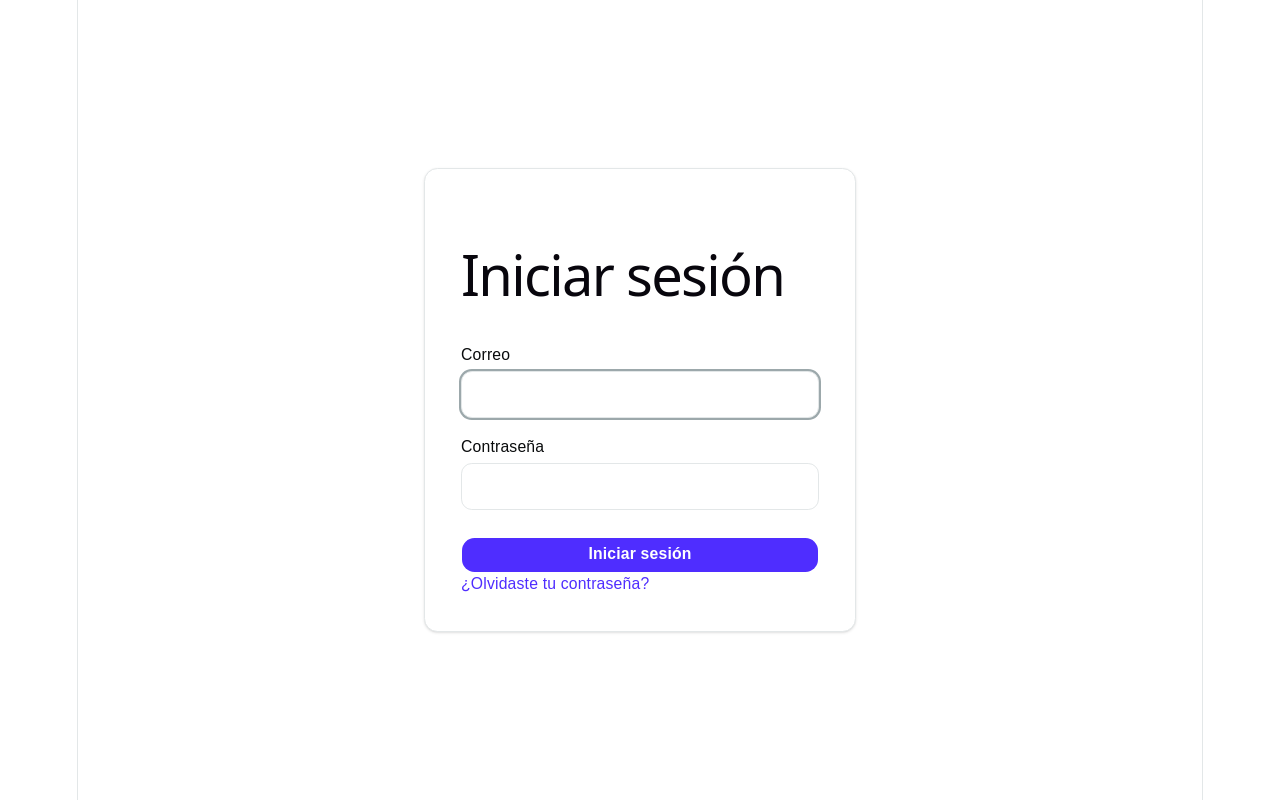
Test case: LoginPage — 401 anti-enumeración › muestra un único mensaje genérico y no revela el motivo
The width and height of the screenshot is (1280, 800).
In the field labelled "Correo": (640,394) [461, 371, 819, 418], type "ana@example.com"
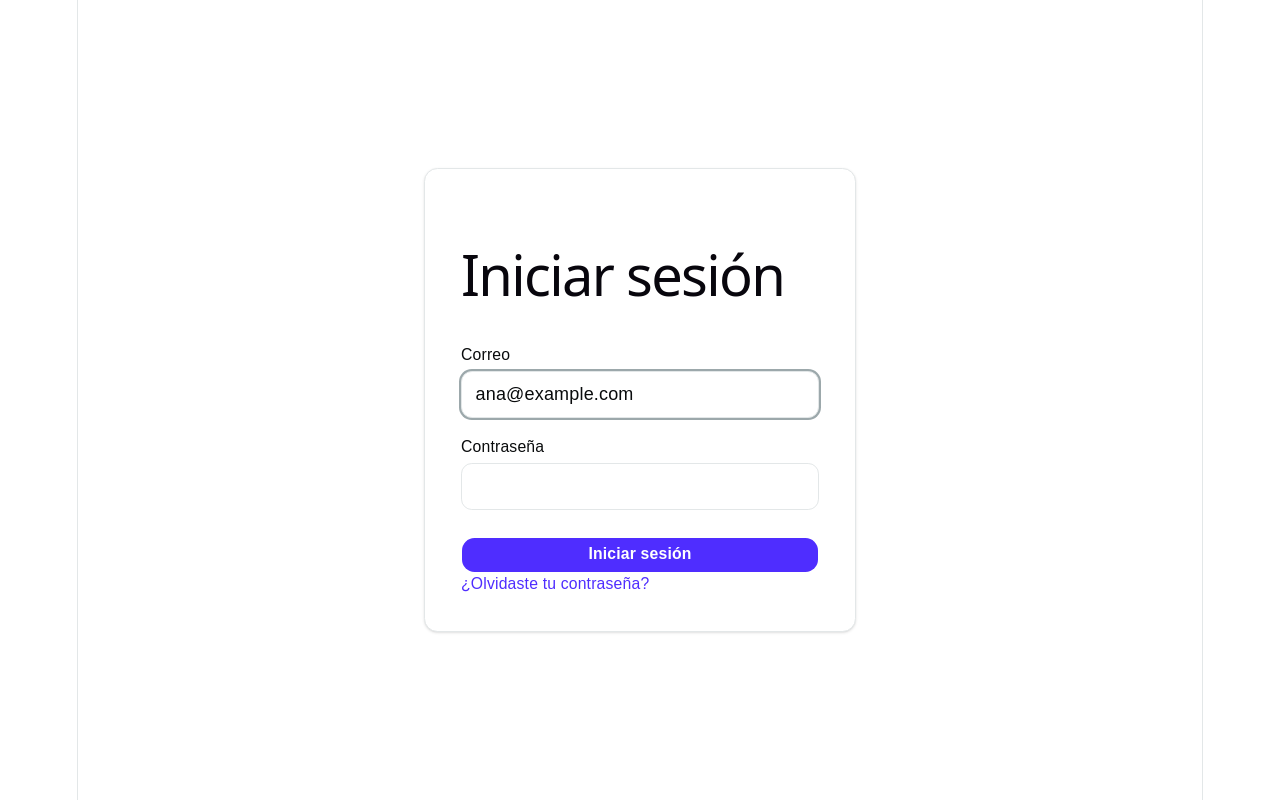
In the password field labelled "Contraseña": (640,486) [461, 463, 819, 510], type "secreto123"
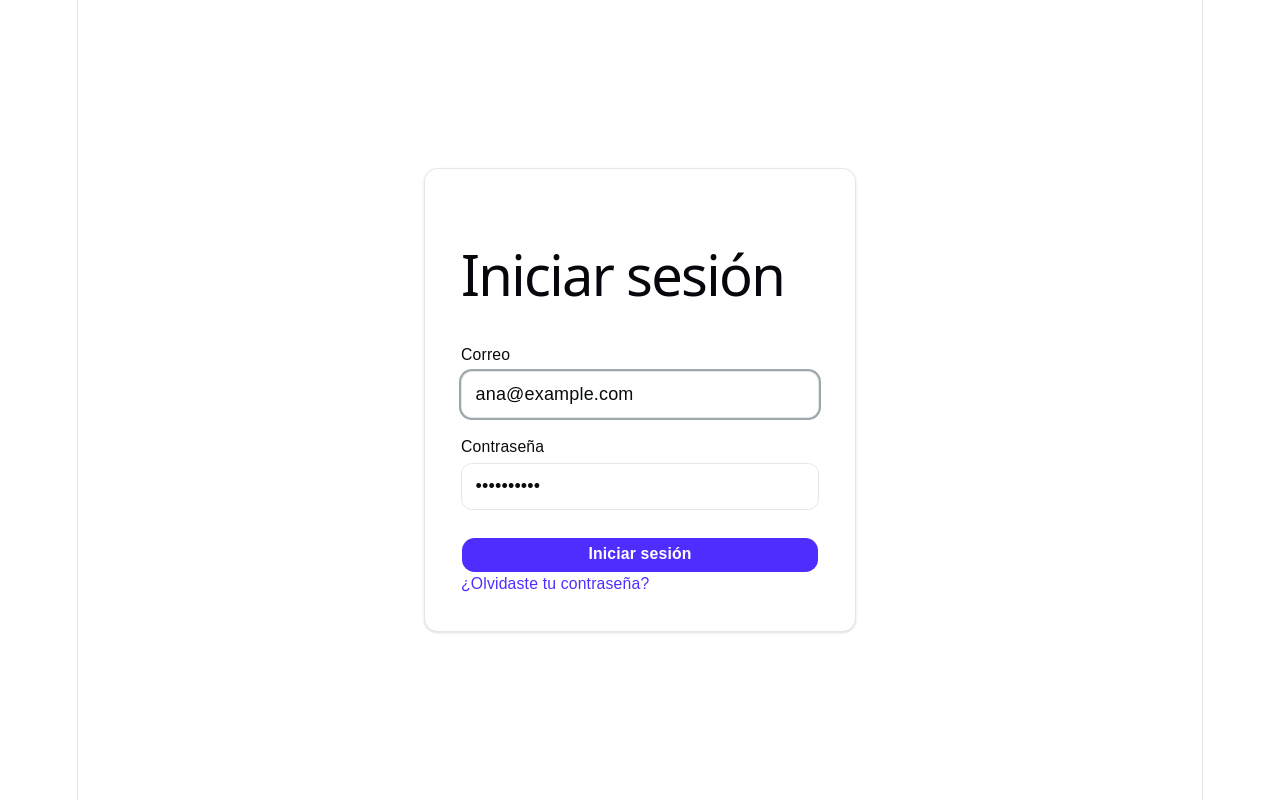
Click the button "Iniciar sesión": (640,555) [461, 537, 819, 573]
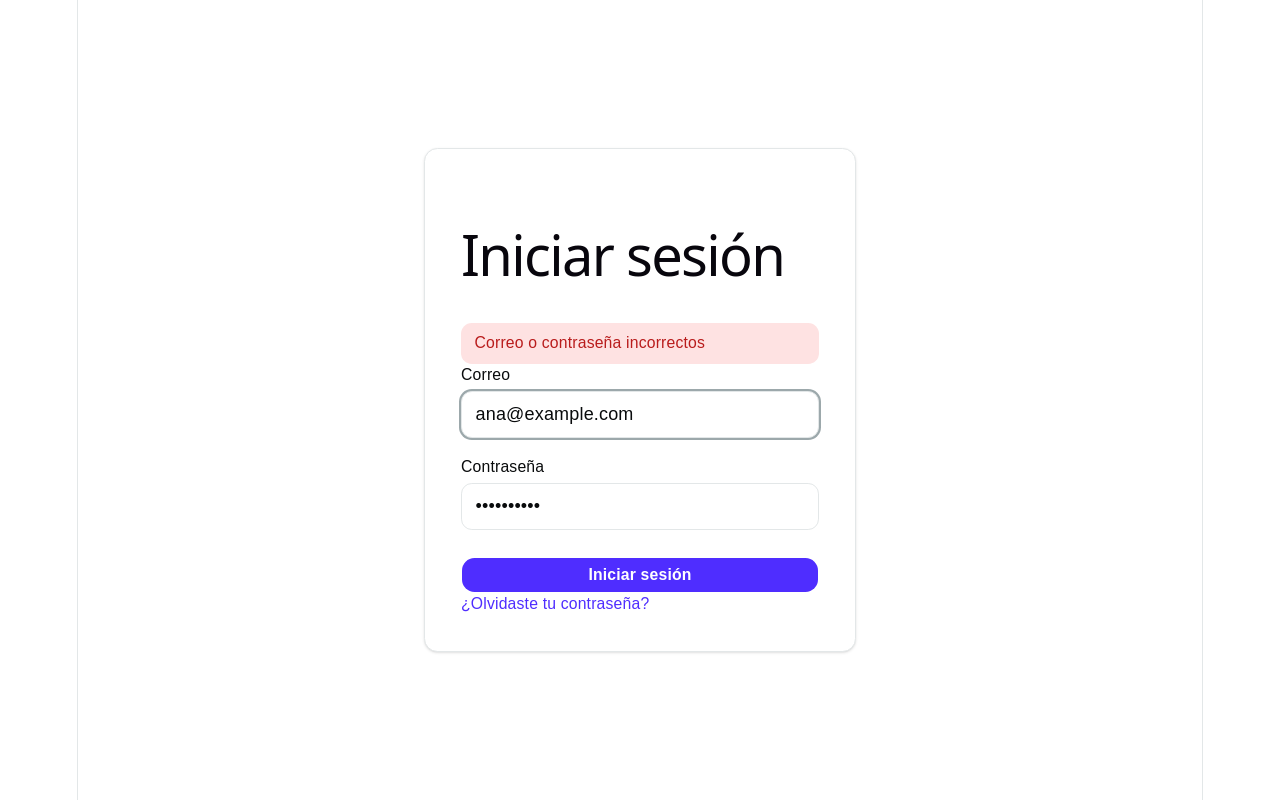
Result: the message reads "Correo o contraseña incorrectos" at [474, 334, 705, 351]
